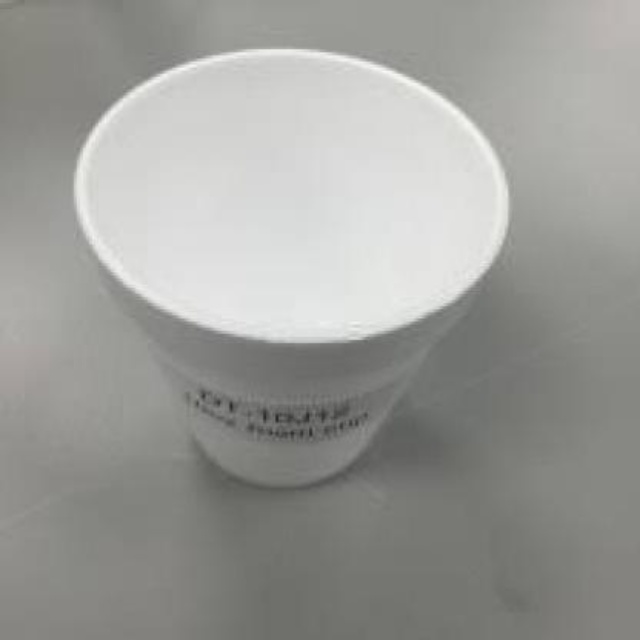trash: (75, 49, 508, 485)
